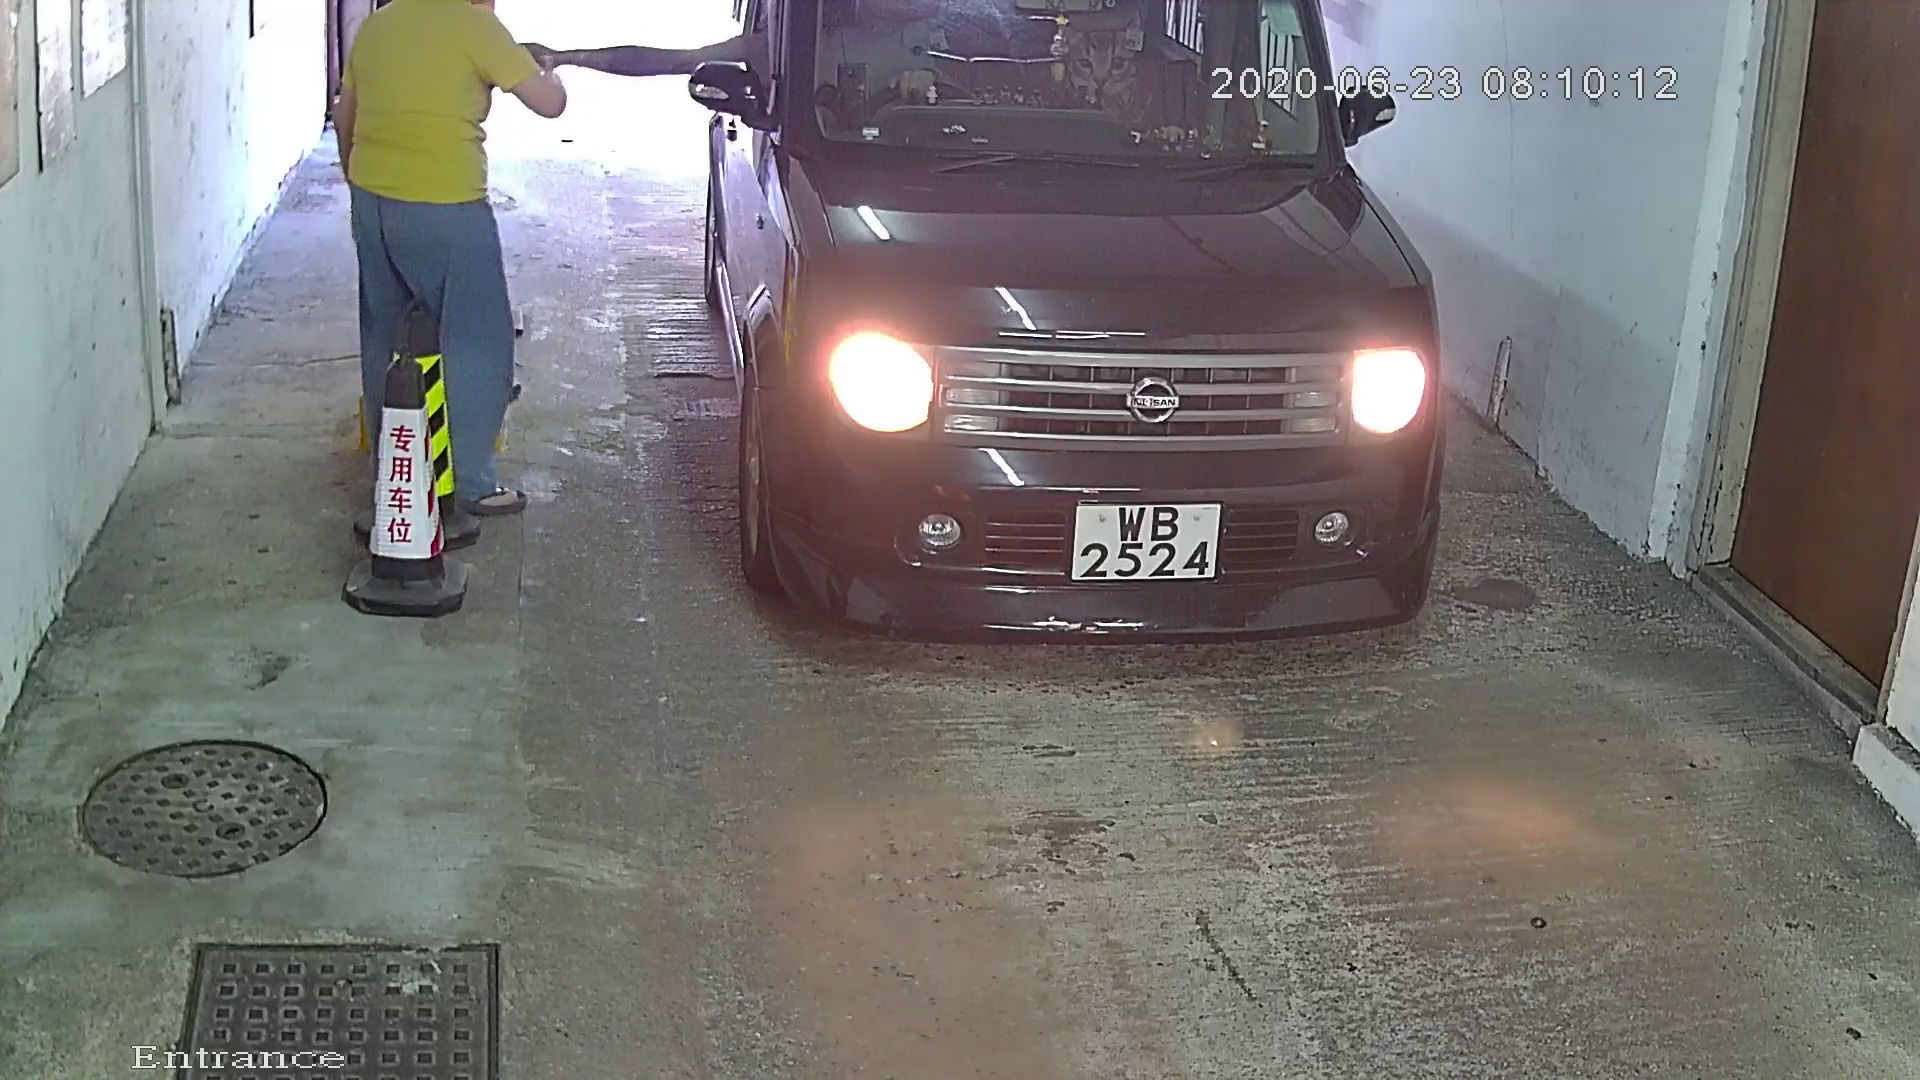privatecar: (671, 1, 1514, 692)
